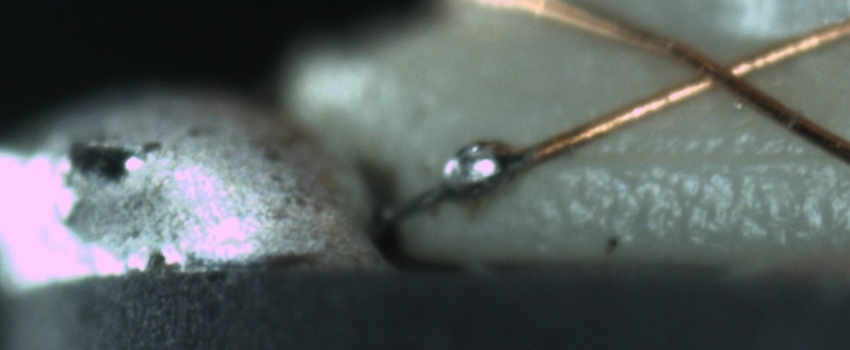CL: (675, 41, 770, 100)
DL: (570, 128, 850, 189)
TB: (443, 135, 521, 199)
TS: (374, 138, 536, 231)
TTCW: (376, 123, 585, 230)
